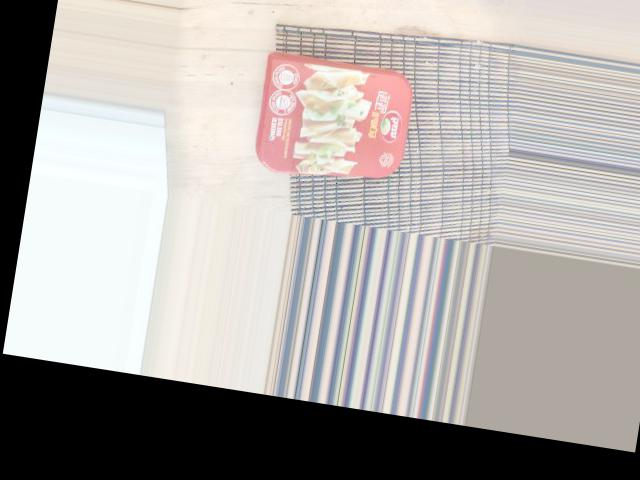cheese: (227, 48, 407, 181)
